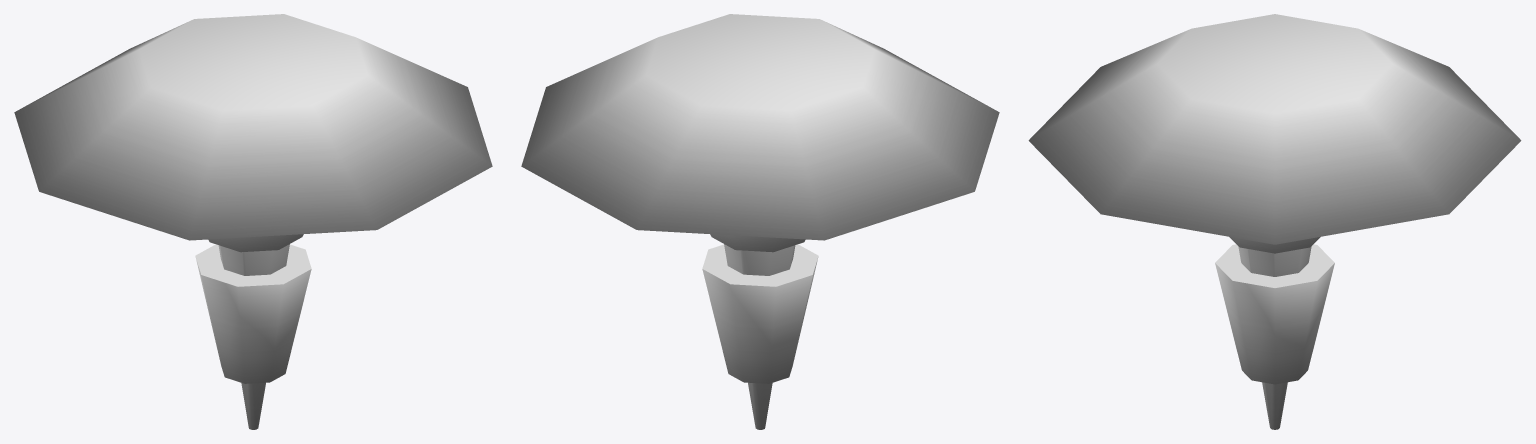
File: stone_pommel_172.glb
The picture shows the model from 3 angles, left to right: view 1: azimuth 30°, elevation 25°; view 2: azimuth 150°, elevation 25°; view 3: azimuth 270°, elevation 25°; orthographic projection.
Parts seen in each view (by area): view 1: stone_pommel.172; view 2: stone_pommel.172; view 3: stone_pommel.172.
Part boxes in pixels (x1,y1,x2,y2): stone_pommel.172: (14, 14, 492, 429); stone_pommel.172: (521, 14, 999, 429); stone_pommel.172: (1028, 14, 1521, 429).
Size of the model in its own units: 2.24 by 1.83 by 2.24.
1 material, 1 textured.
